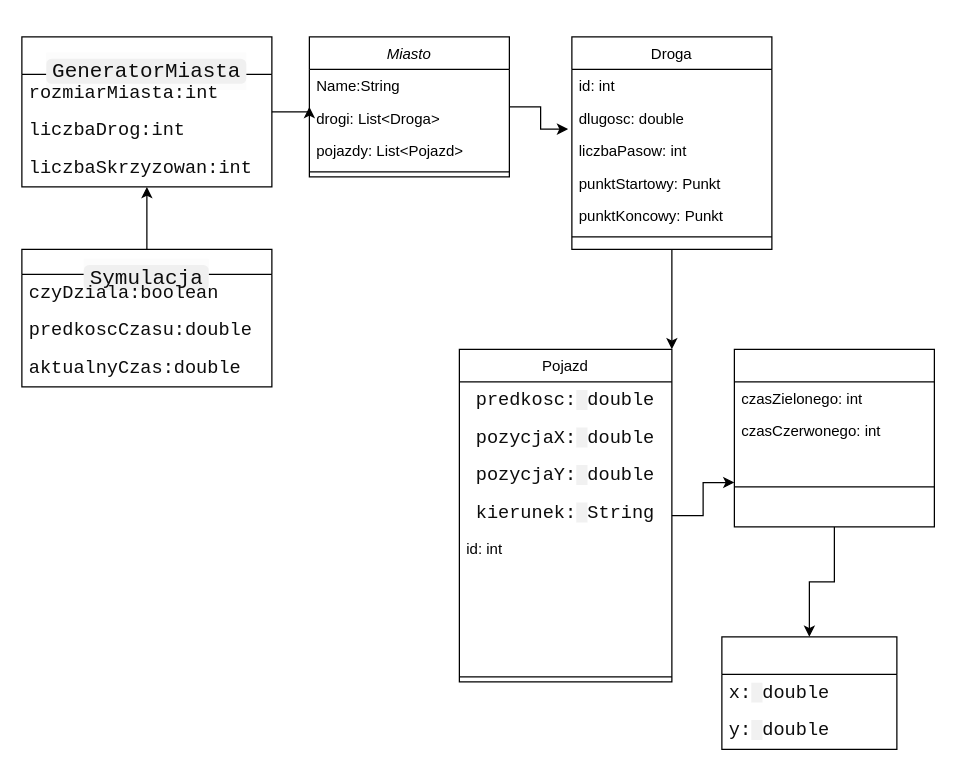
This 956x771 diagram has some shape labels left out. Here are the shapes that lost their labels. From the top down, the box of each, then its label:
(733, 348, 934, 527): SygnalizacjaSwietlna
(721, 636, 897, 749): Punkt
